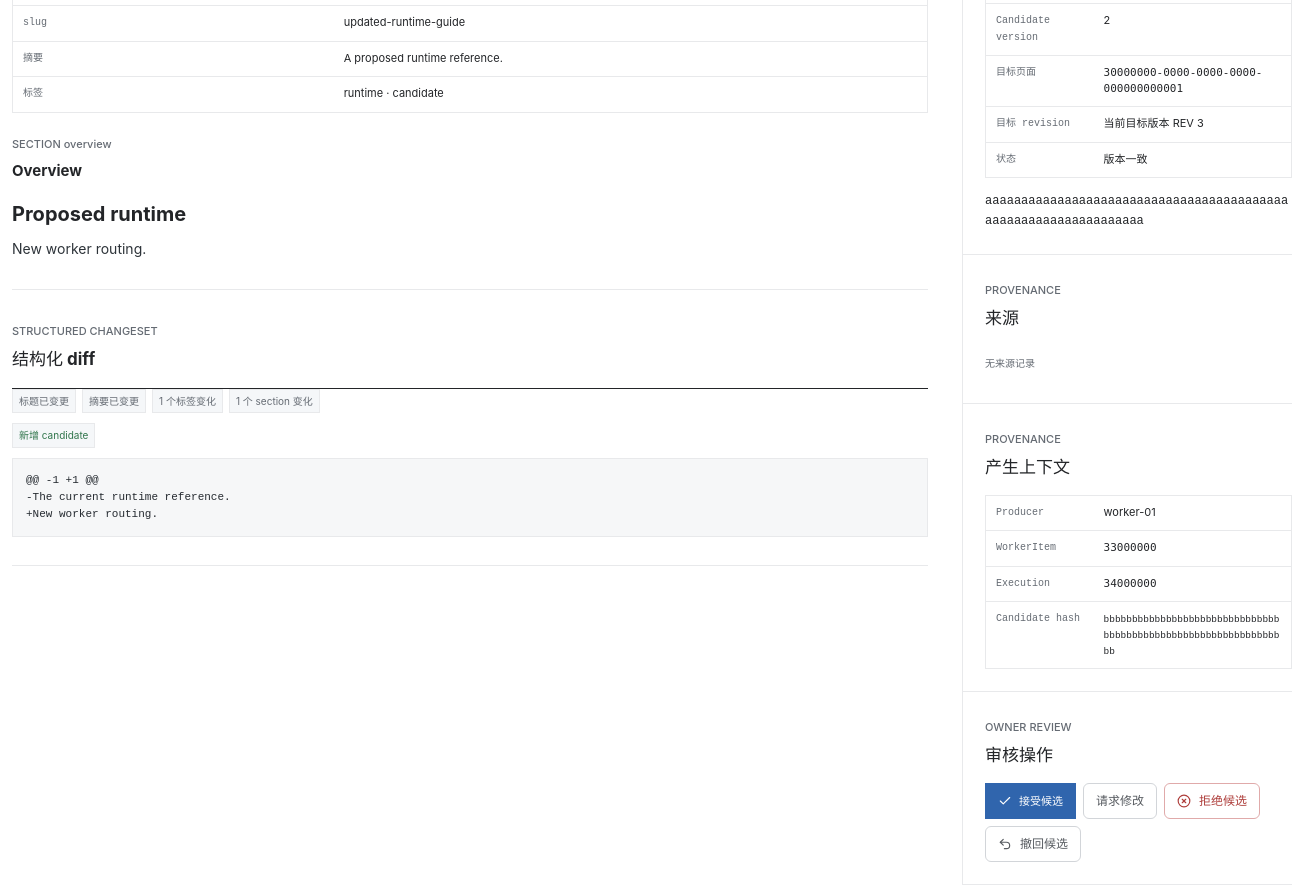
it: KnowledgeCandidatePage › refreshes after a 409 without retrying the review command
(page scrolled)
Click the button "接受候选" at (1030, 801), box [985,783,1076,819]
(page scrolled)
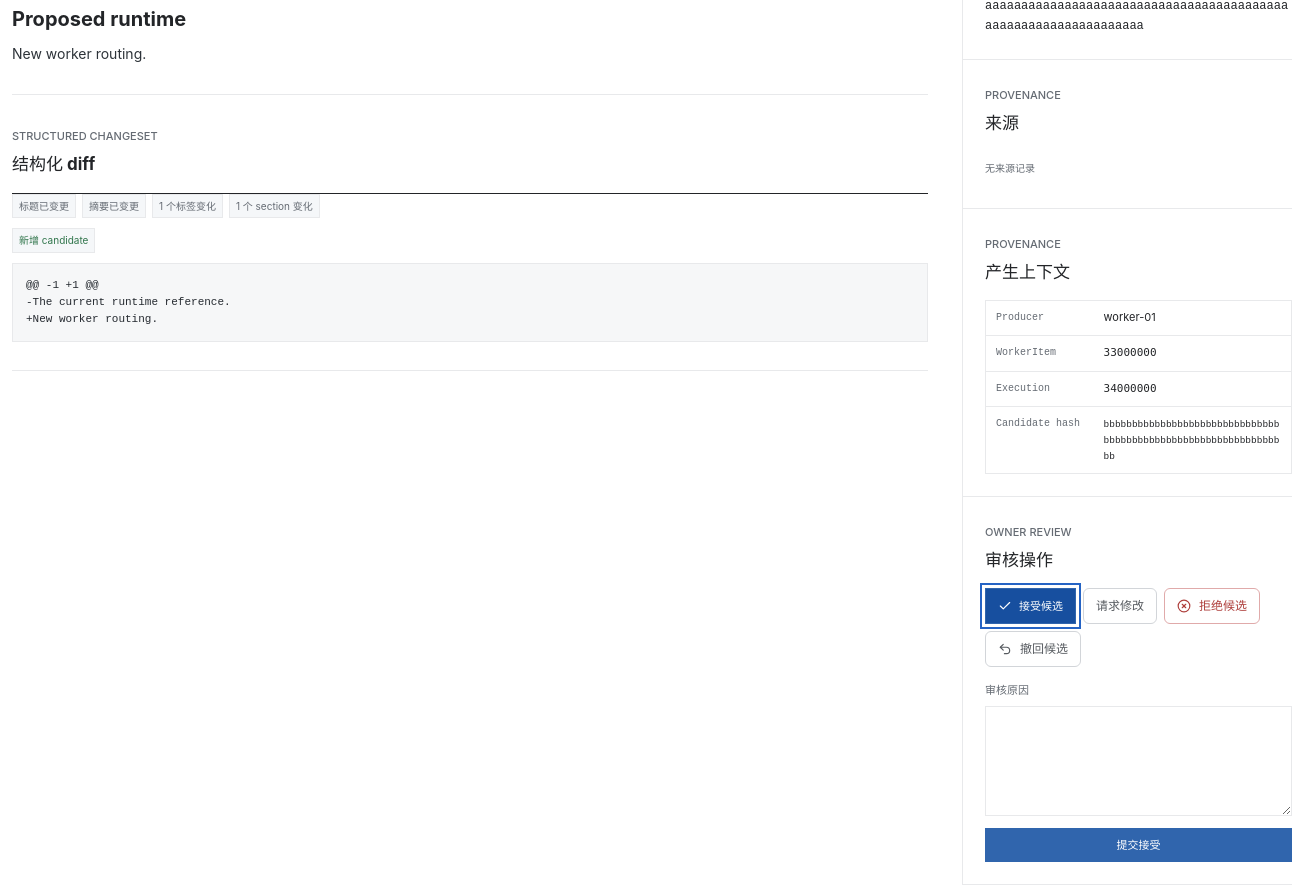
Type "确认内容" into the text box labelled "审核原因" at (1138, 761), box [985,706,1292,816]
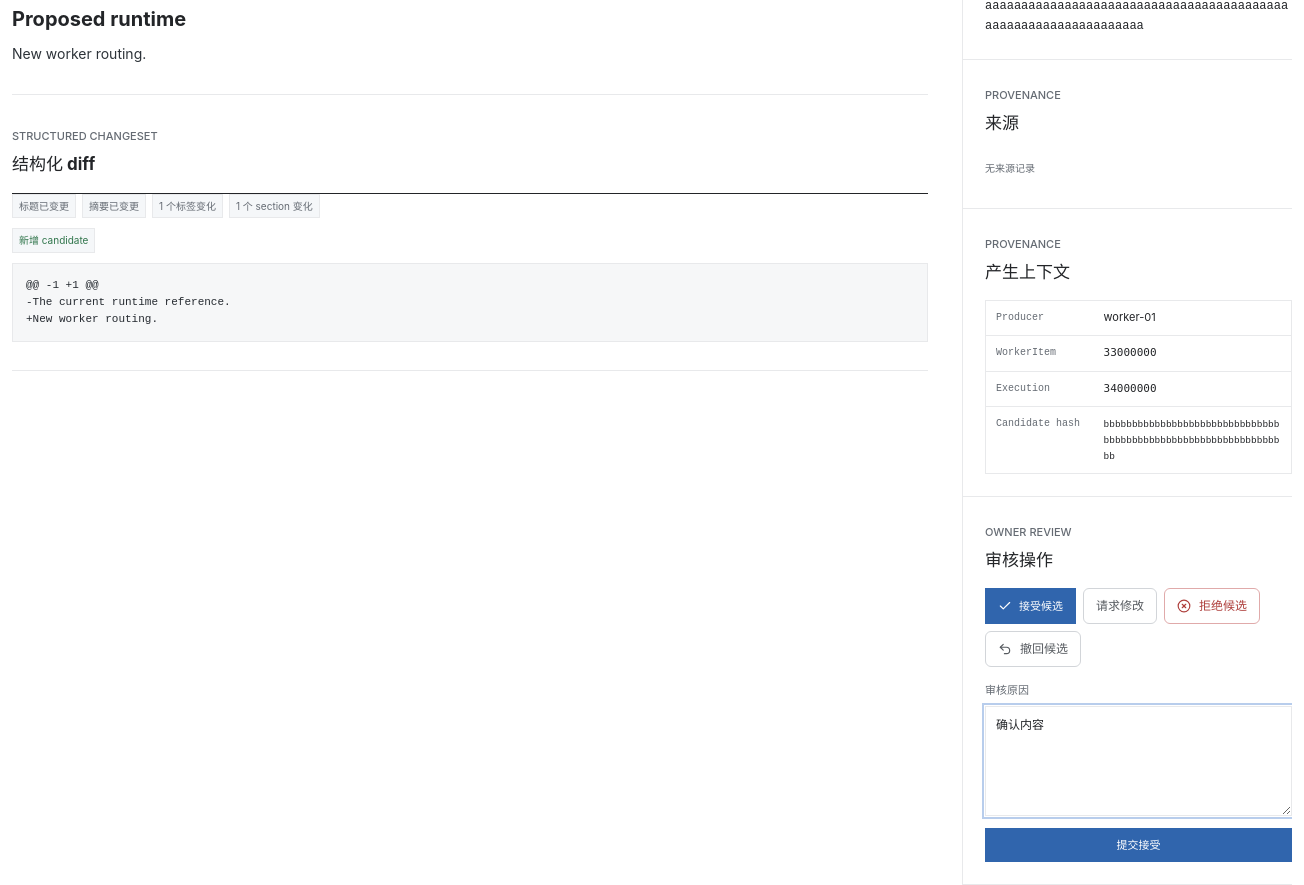
Click the button "提交接受" at (1138, 845), box [985,828,1292,862]
(page scrolled)
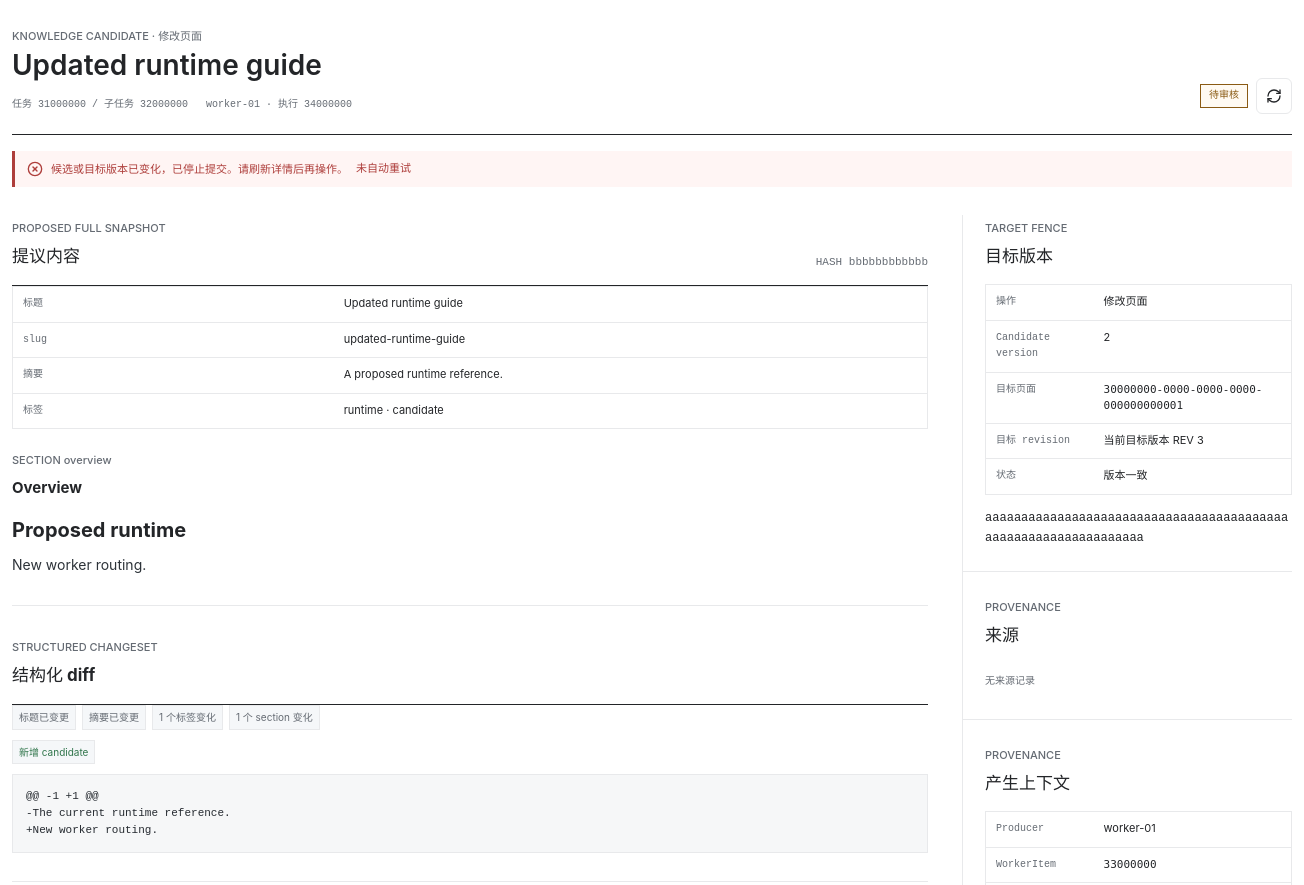
Expected: the message shows "候选或目标版本已变化", [51,162,348,176]
Expected: the text "未自动重试" is shown, [356,161,411,177]
